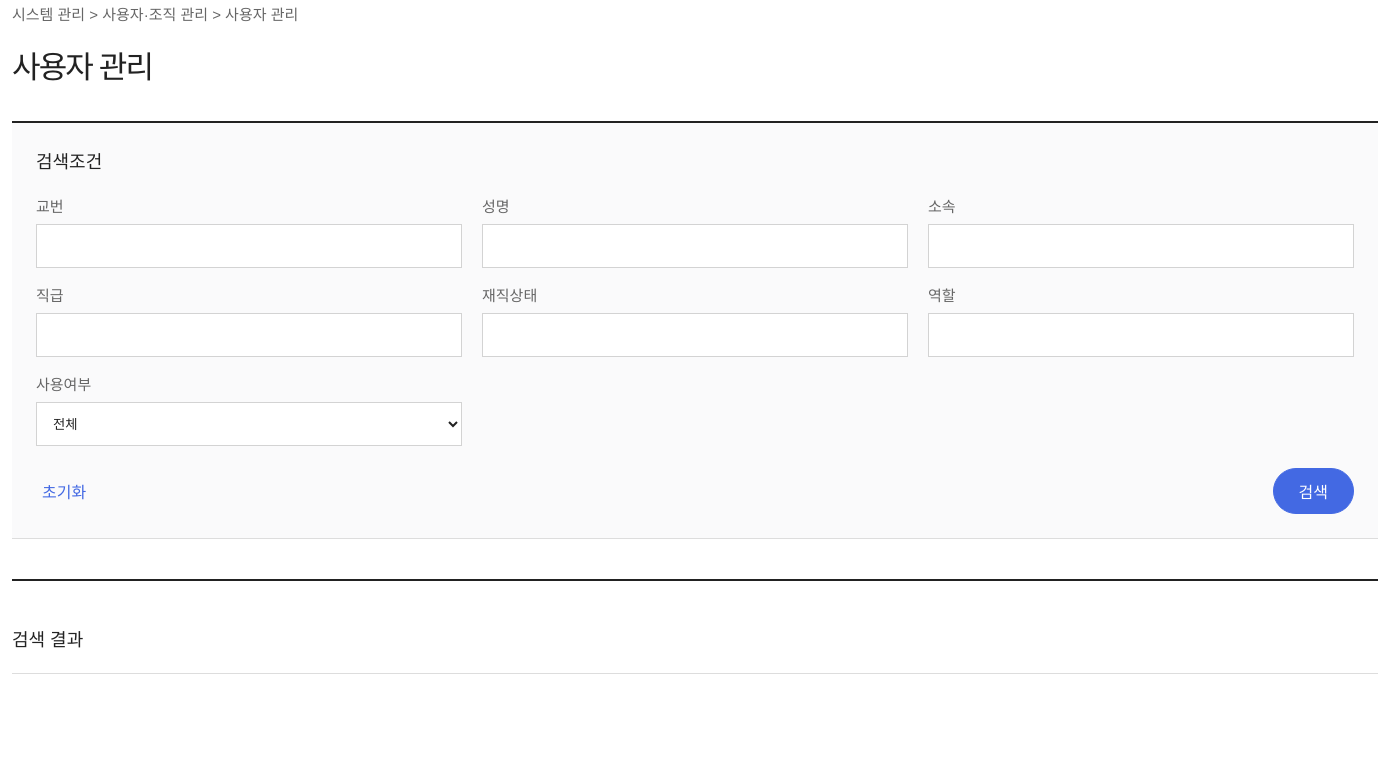
Scenario: UserManagementPage › shows the selected user as read-only source-backed information
Click the button "검색": (1313, 491) 1272,468 -> 1354,514
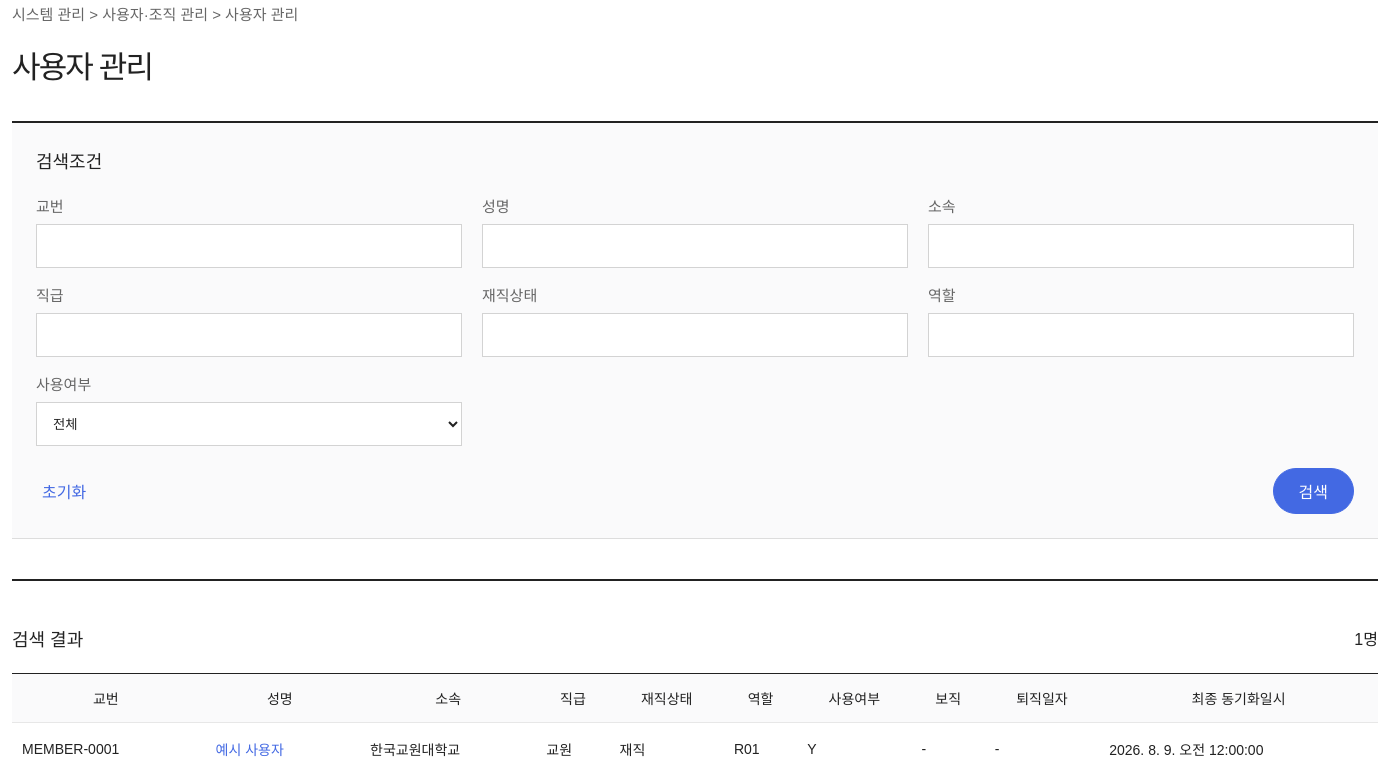
Expected: the button with aria-label "예시 사용자 사용자 상세 열기" is shown
Click the button with aria-label "예시 사용자 사용자 상세 열기": (250, 749) 210,738 -> 290,760
(page scrolled)
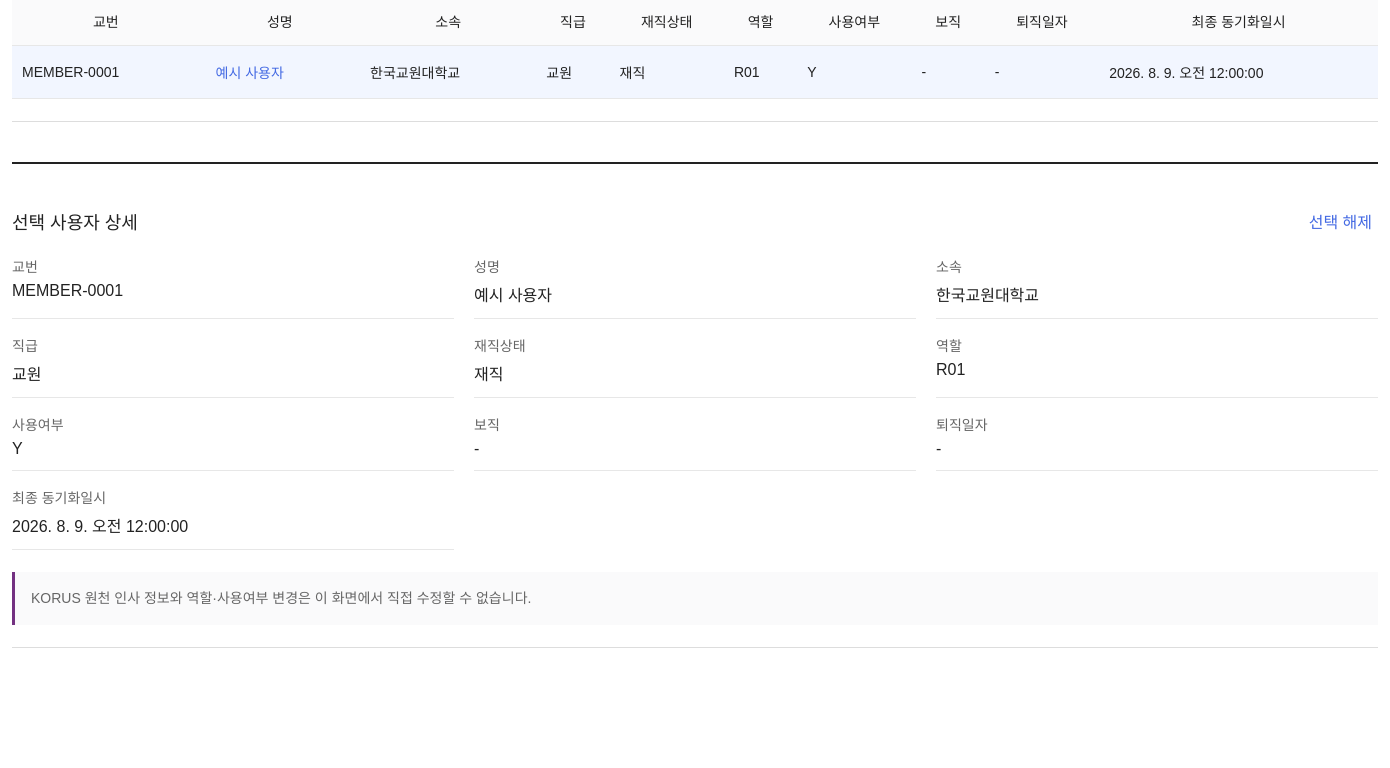
Expected: the text "KORUS 원천 인사 정보와 역할·사용여부 변경은 이 화면에서 직접 수정할 수 없습니다." is shown, 12,572 -> 1378,625
